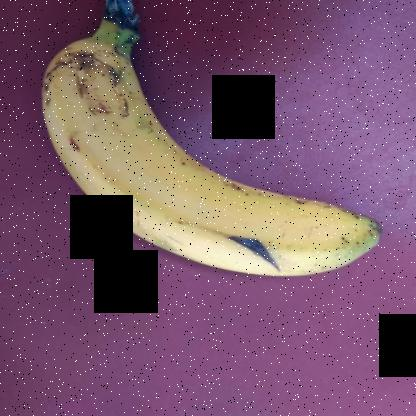ripe: (8, 17, 377, 288)
